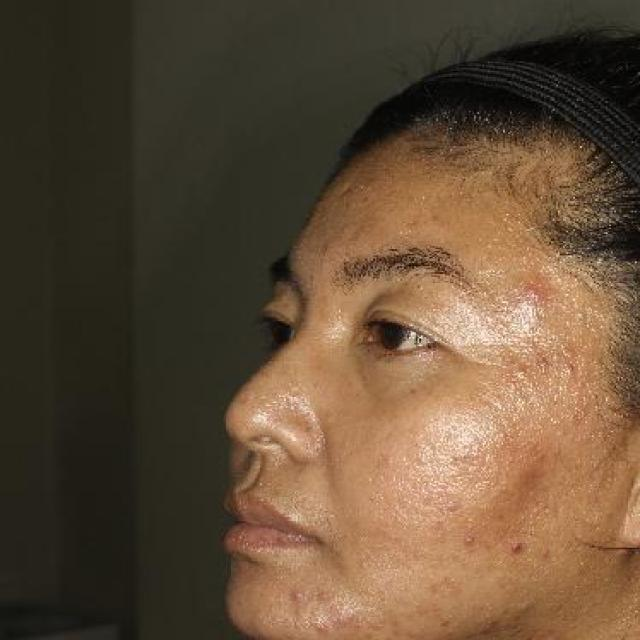papules: (508, 265, 558, 317)
